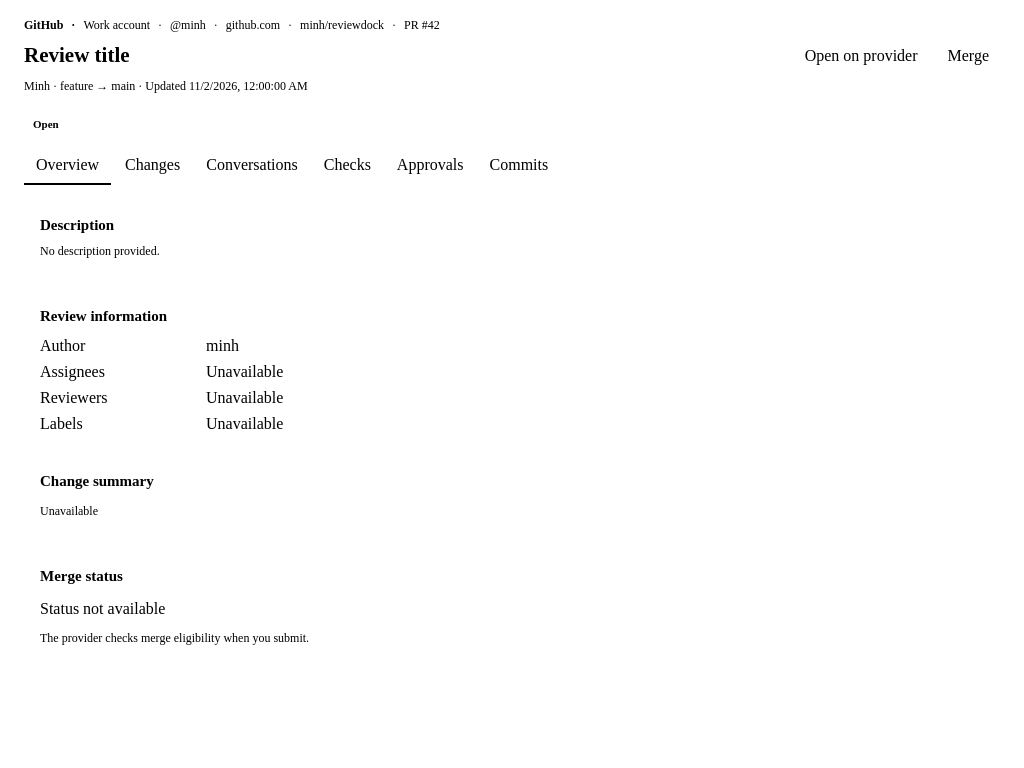
Test case: ReviewDock webview entry point › keeps unsupported checks distinct from loading and empty results
The width and height of the screenshot is (1024, 768).
Click the button "Checks" at (347, 165), box [312,145,383,185]
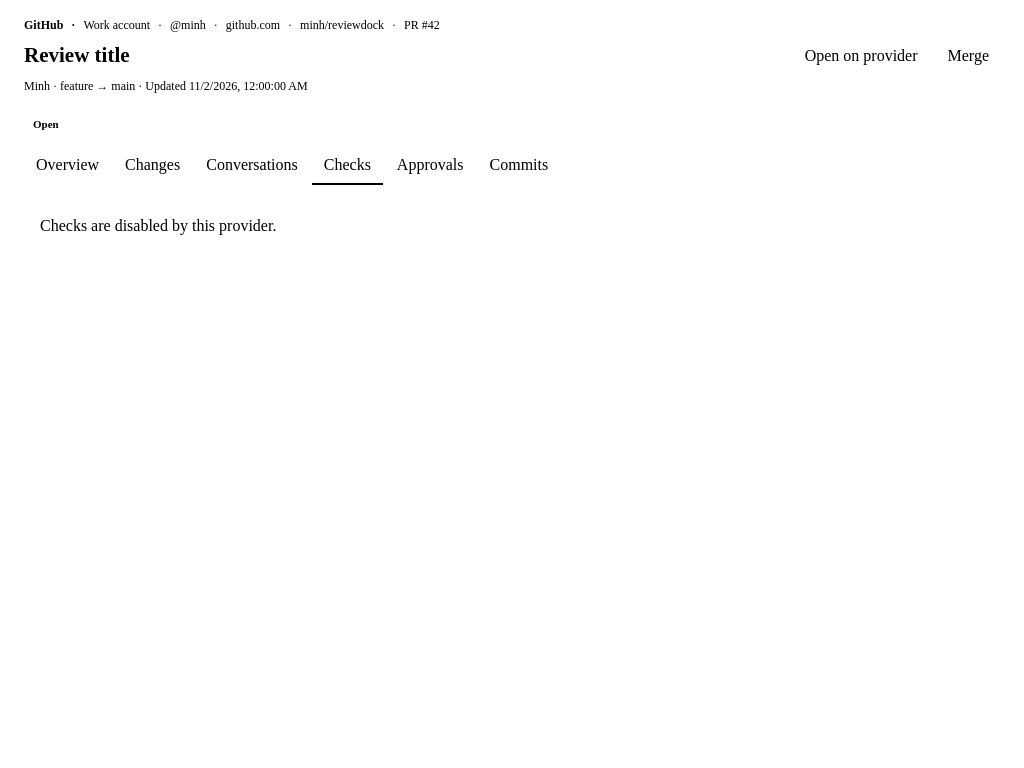
Now the text "Checks are disabled by this provider." is shown, box [40,217,276,234]
